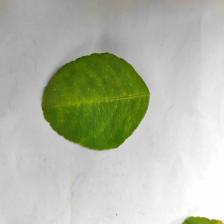greening: (39, 48, 152, 155)
